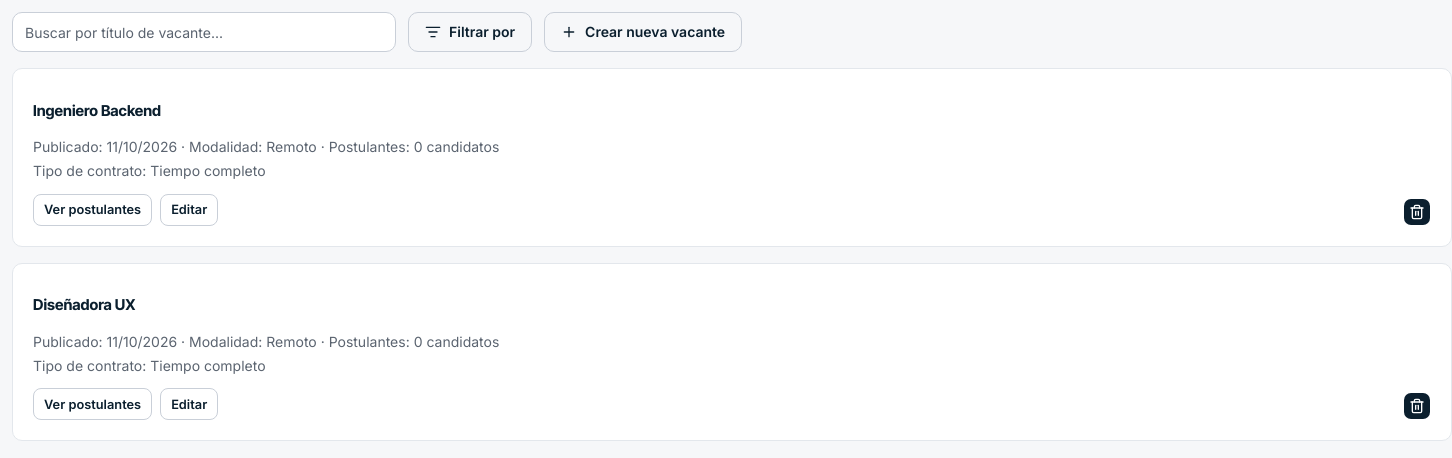
it: VacancyList en el portal de empresa › busca sin distinguir mayúsculas ni tildes y sin volver a consultar al servidor
expect the button "Ingeniero Backend" is shown: met, box [33,89,161,133]
Type "DISENADORA" into the search field labelled "Buscar por título de vacante" at (204, 32), box [12,12,396,52]
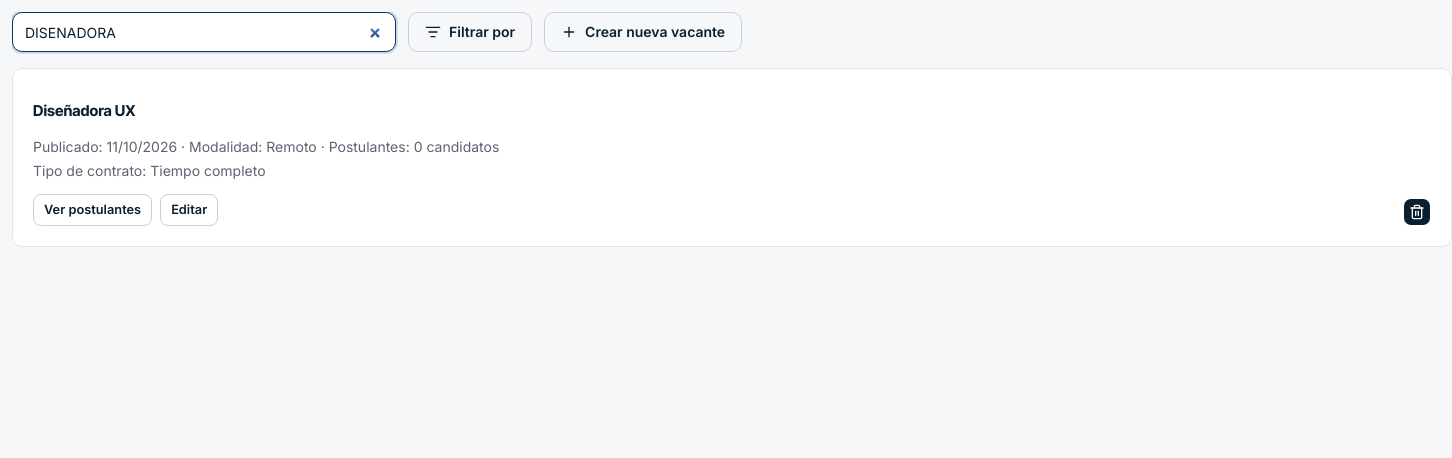
expect the button "Diseñadora UX" is shown: met, box [33,89,136,133]
expect the button "Ingeniero Backend" is gone: met
